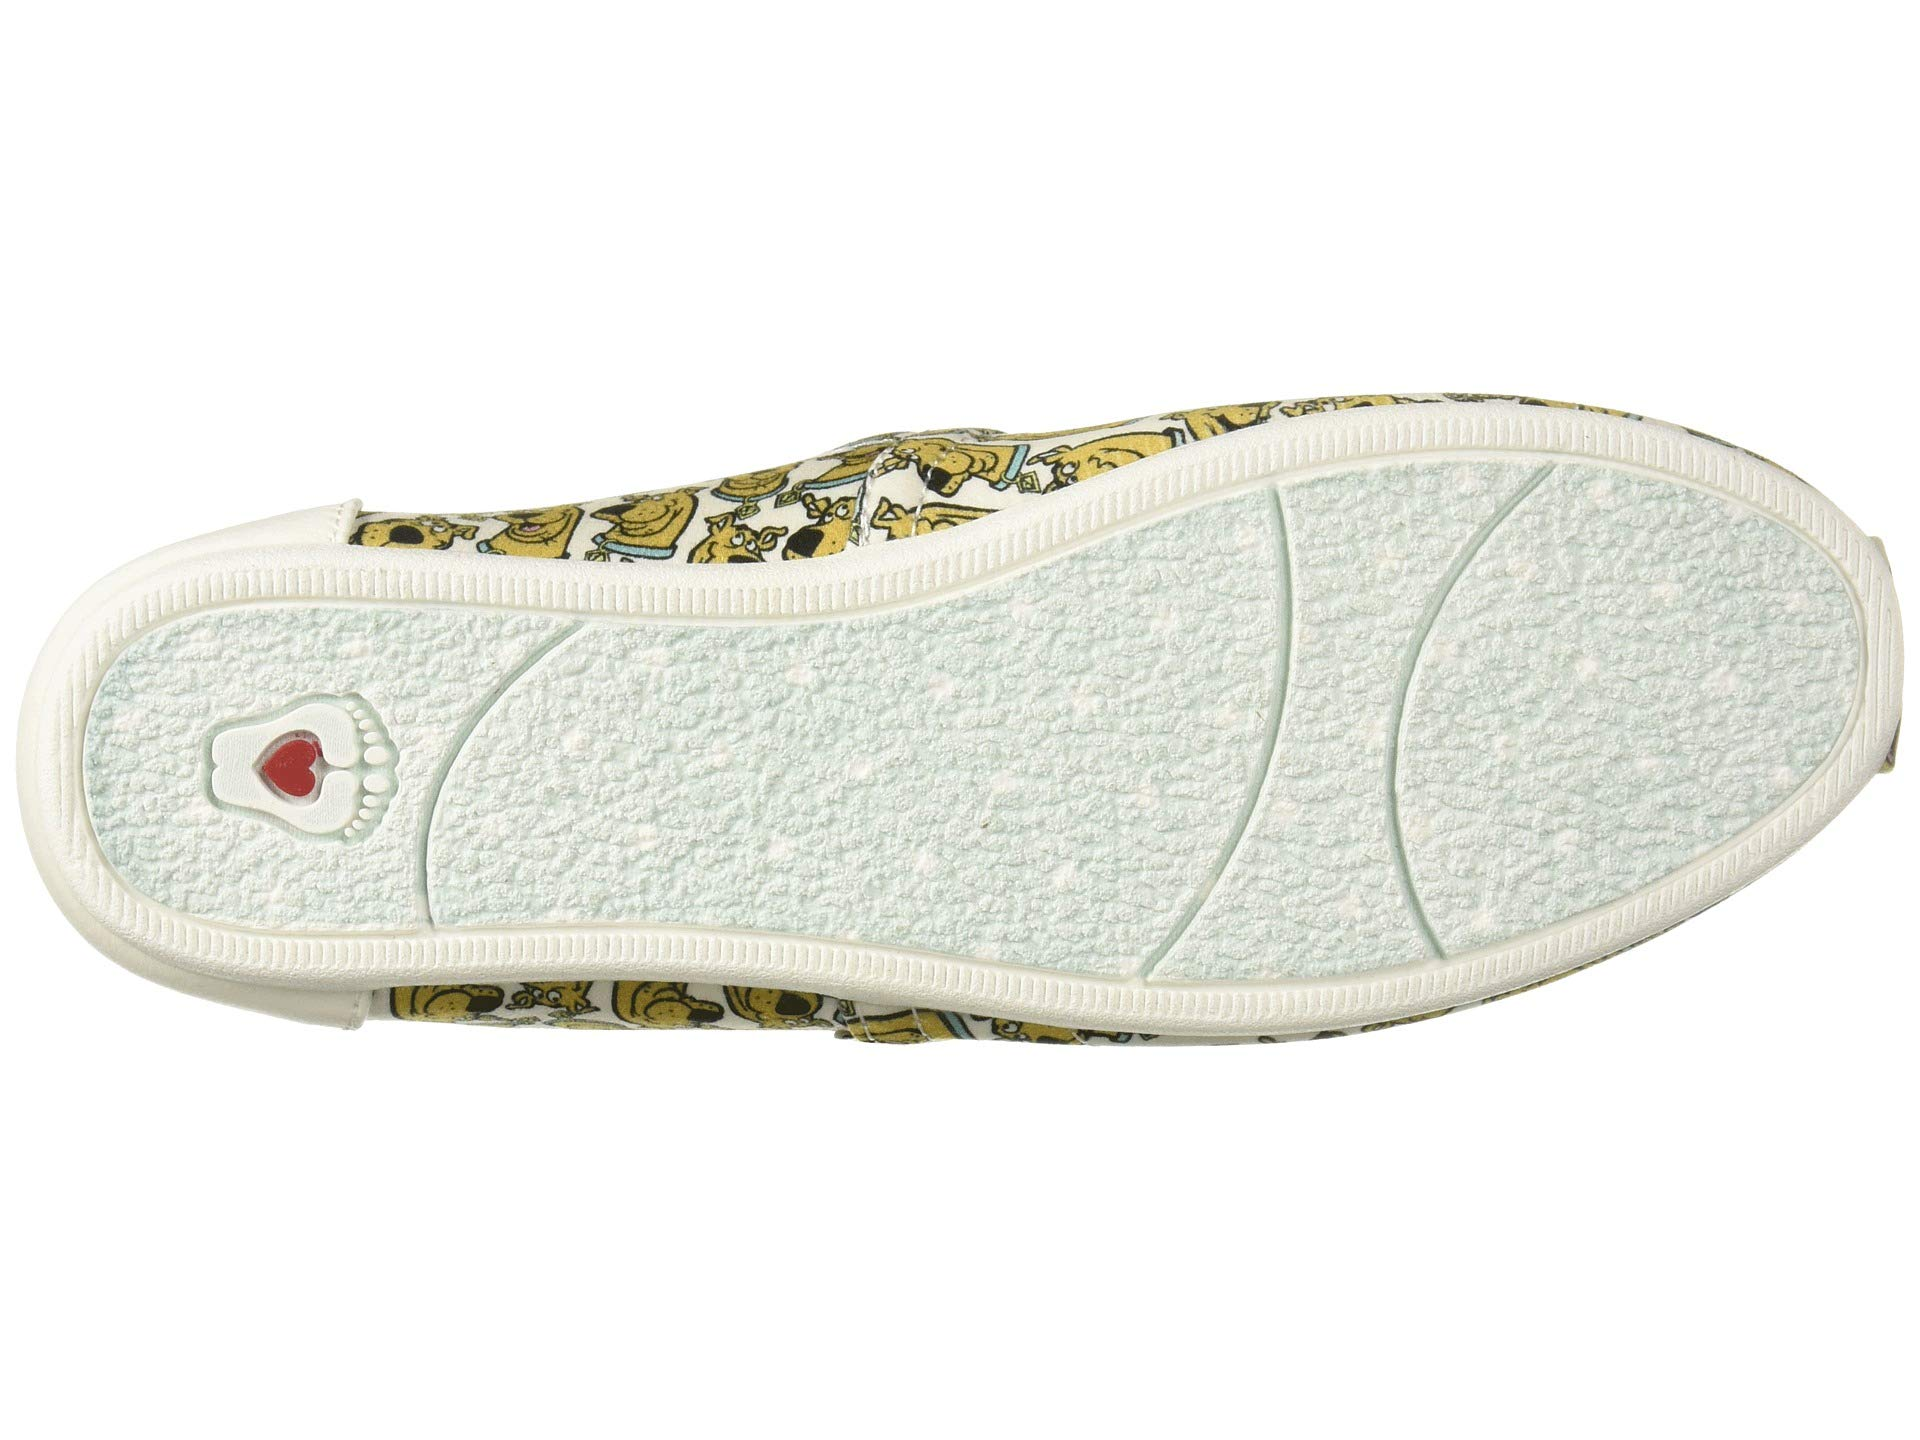chevron: (172, 623, 425, 917)
circle: (172, 623, 425, 917)
other: (172, 623, 425, 917)
quad: (172, 623, 425, 917)
